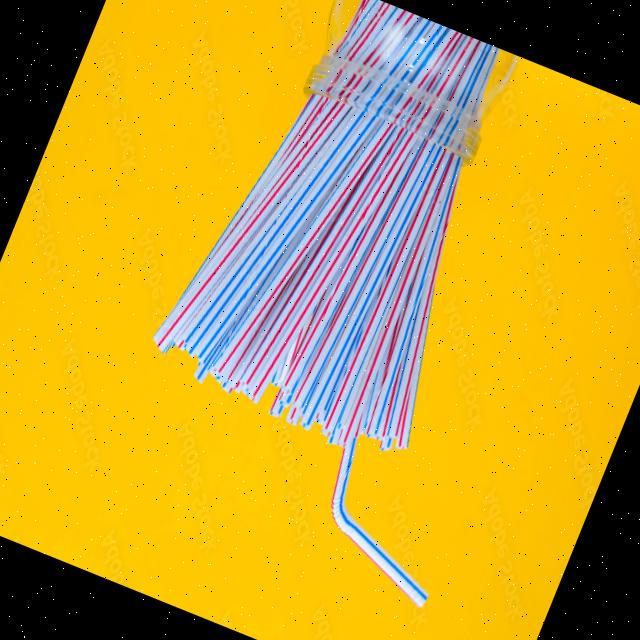plastic: (266, 446, 478, 638)
